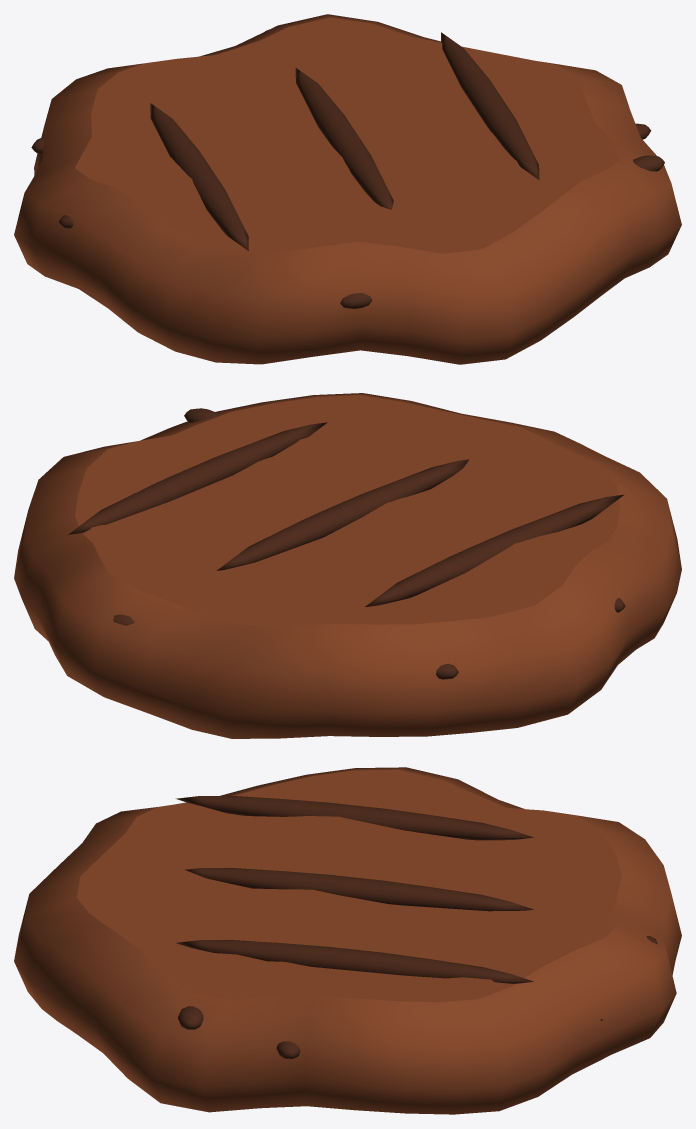
Rendered from perfect.glb.
3 renders of one model, top to bottom at view 1: azimuth 30°, elevation 25°; view 2: azimuth 150°, elevation 25°; view 3: azimuth 270°, elevation 25°, orthographic. The views are drawn at different scales.
Parts seen in each view (by area): view 1: Hand pressed patty.002, Pressed grill line.008, Pressed grill line.007, Pressed grill line.006; view 2: Hand pressed patty.002, Pressed grill line.007, Pressed grill line.008, Pressed grill line.006; view 3: Hand pressed patty.002, Pressed grill line.007, Pressed grill line.008, Pressed grill line.006.
Part boxes in pixels (box(x1,y1,x2,y2)): Hand pressed patty.002: box(14, 14, 681, 364); Pressed grill line.008: box(441, 32, 539, 179); Pressed grill line.007: box(295, 68, 393, 209); Pressed grill line.006: box(150, 103, 248, 250); Hand pressed patty.002: box(14, 393, 681, 738); Pressed grill line.007: box(217, 459, 469, 570); Pressed grill line.008: box(68, 422, 327, 534); Pressed grill line.006: box(365, 494, 623, 606); Hand pressed patty.002: box(14, 767, 681, 1114); Pressed grill line.007: box(185, 868, 533, 911); Pressed grill line.008: box(176, 940, 533, 983); Pressed grill line.006: box(175, 795, 533, 840).
Size of the model in its own units: 0.4533 by 0.0925 by 0.4504.
